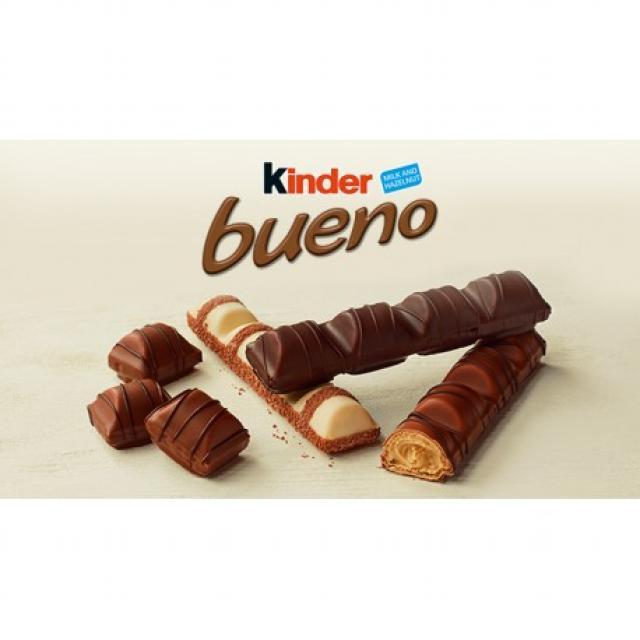Chocolate bar packaged: (245, 271, 557, 395), (186, 295, 384, 461), (376, 321, 548, 485), (145, 386, 255, 472), (84, 380, 175, 446), (106, 319, 201, 382)
